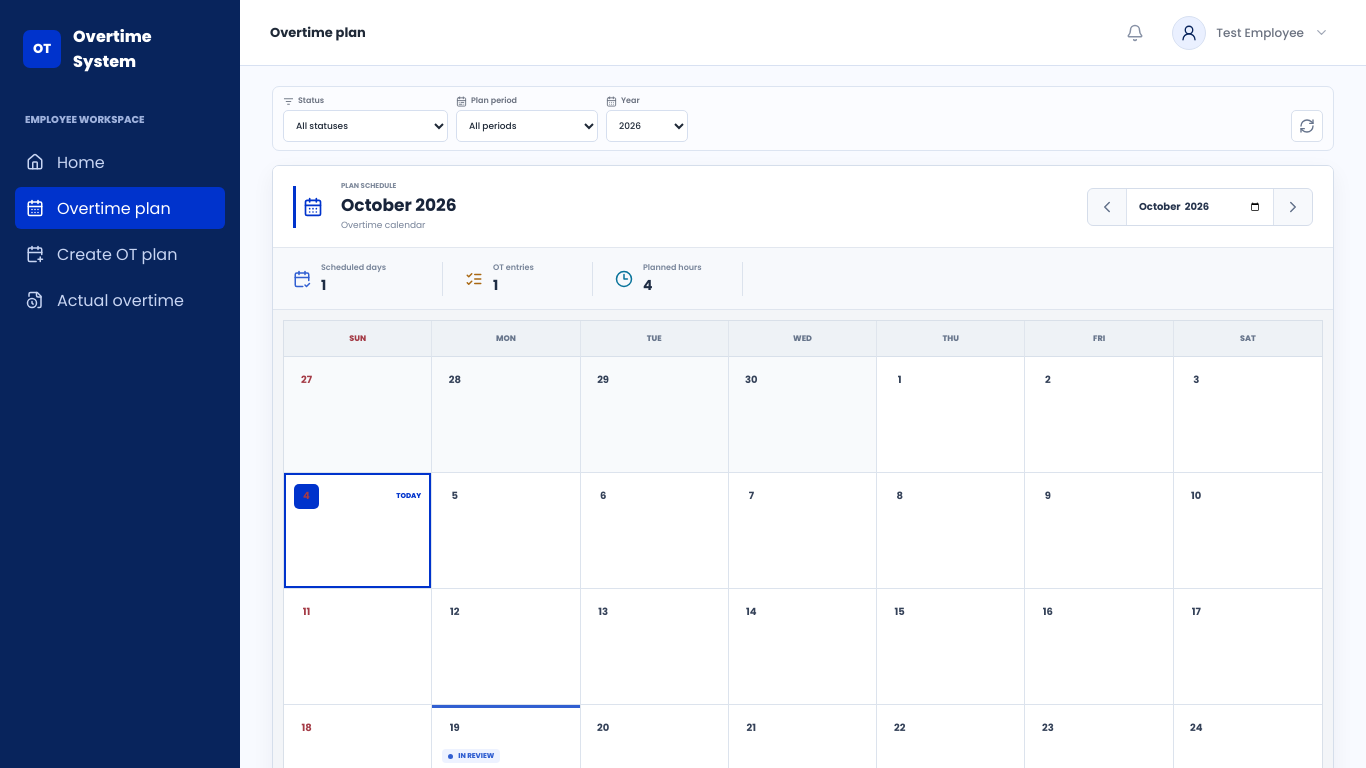
Scenario: role-based route protection › loads the authenticated employee overtime plan list
Click the button named "Refresh overtime plans": (1307, 126) [1291,110,1323,142]
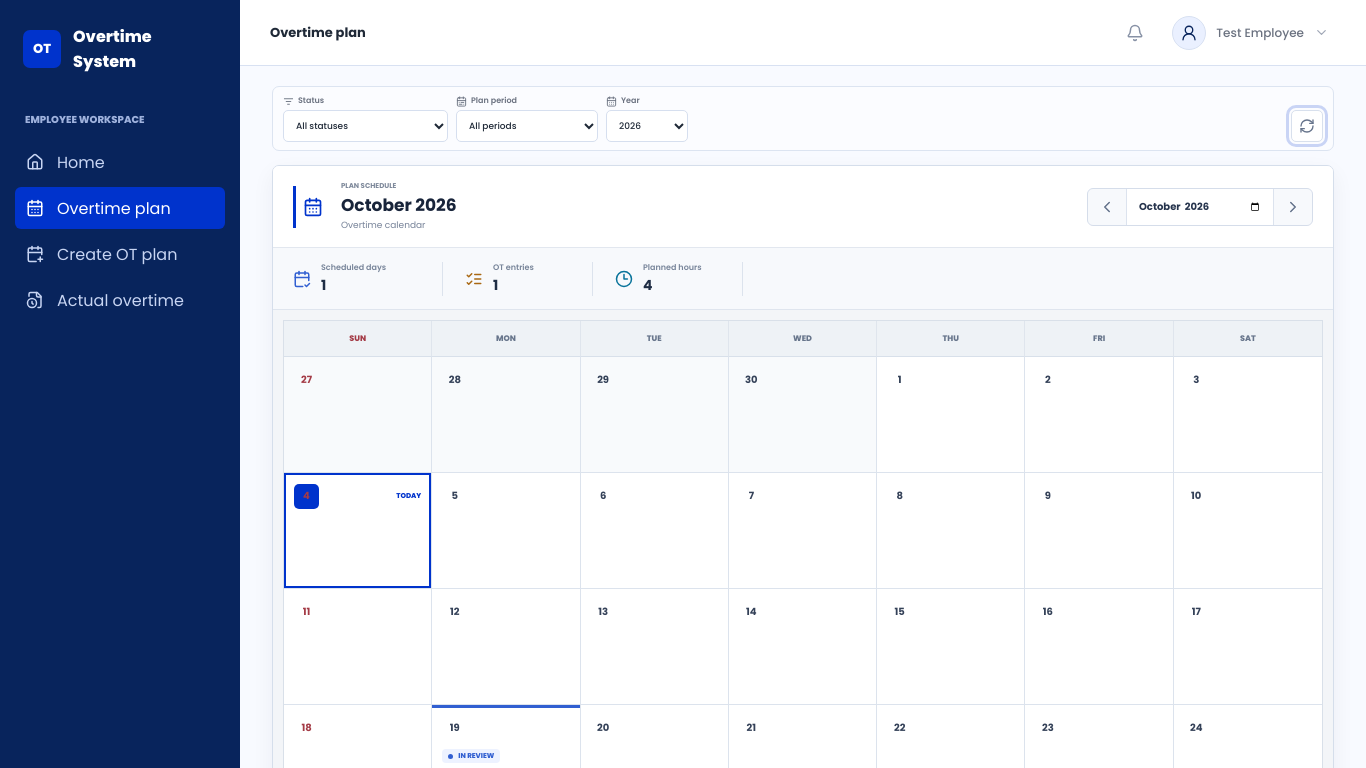
Select "Monthly" in the dropdown labelled "Plan period": (527, 126) [456,110,598,142]
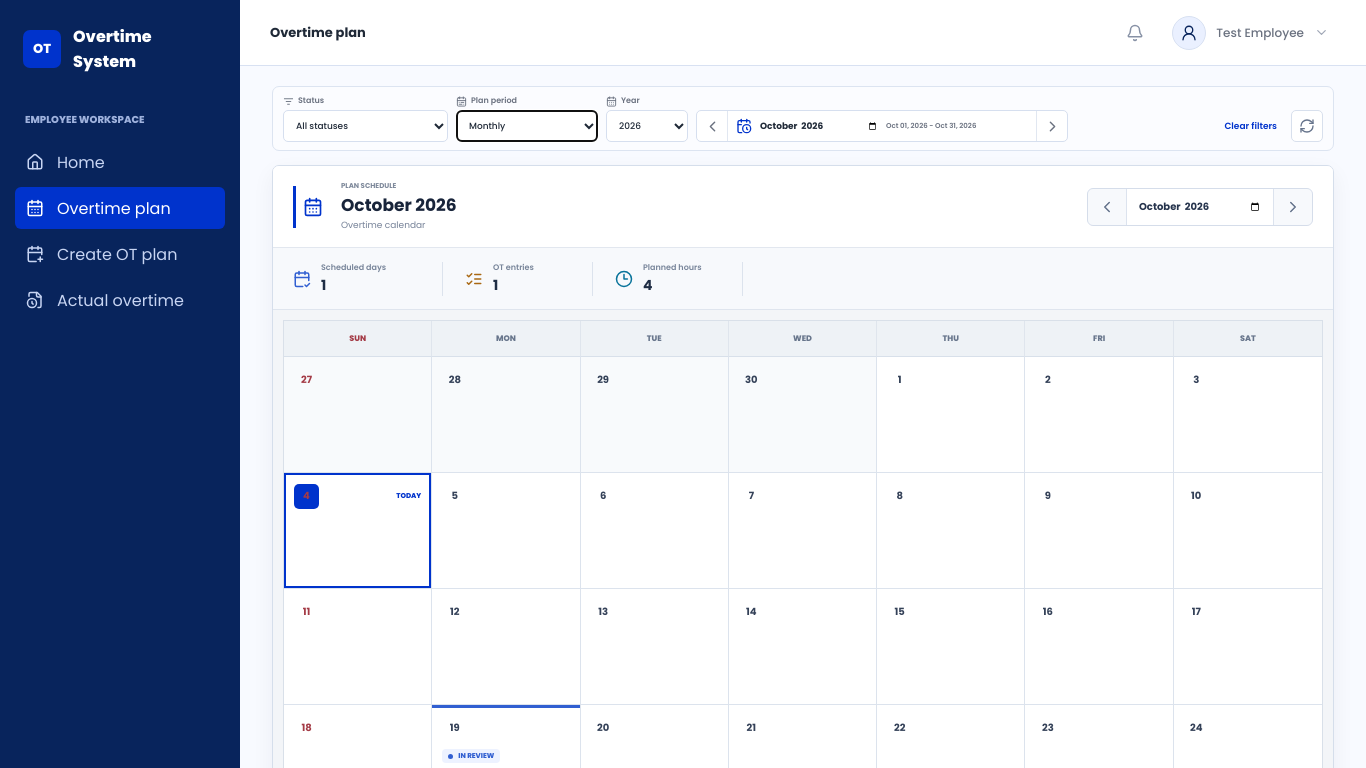
Now the field named "Selected month" is shown, box [759,113,879,139]
